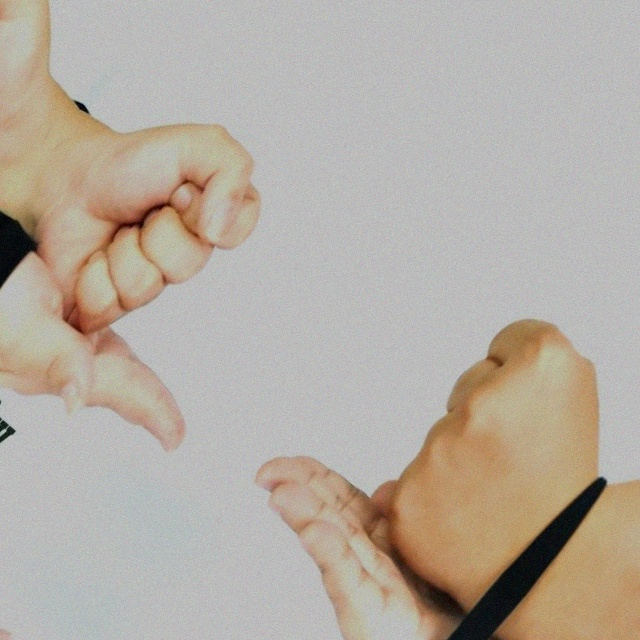Rock: (342, 296, 640, 624), (0, 70, 296, 375)
